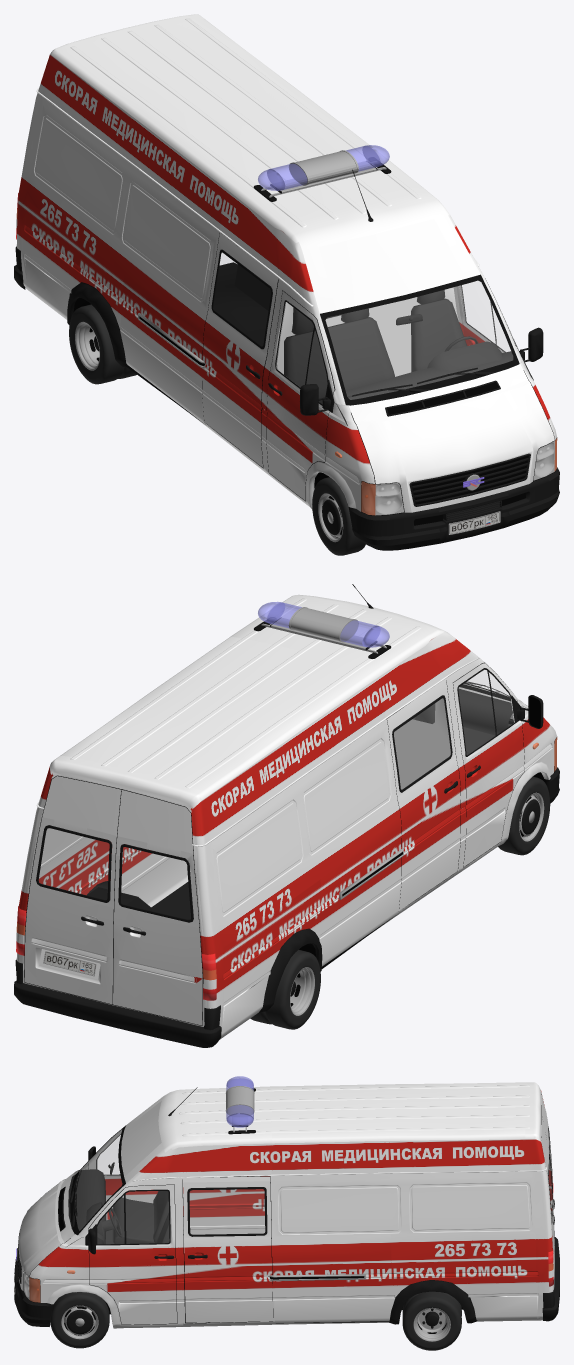
Rendered from ambu.glb.
3 views of the same model, one above another, from view 1: azimuth 30°, elevation 25°; view 2: azimuth 150°, elevation 25°; view 3: azimuth 270°, elevation 25° (orthographic). The views are drawn at different scales.
Visible parts, largest first — view 1: 3DSMeshMatrix (×20); view 2: 3DSMeshMatrix (×19); view 3: 3DSMeshMatrix (×20).
Part boxes in pixels (x1,y1,x2,y2): 3DSMeshMatrix (×20): [14, 14, 559, 555]; 3DSMeshMatrix (×19): [14, 584, 559, 1047]; 3DSMeshMatrix (×20): [14, 1078, 559, 1350].
Size of the model in its own units: 59.98 by 71.55 by 157.
Materials: 22 (3 with a texture image).
